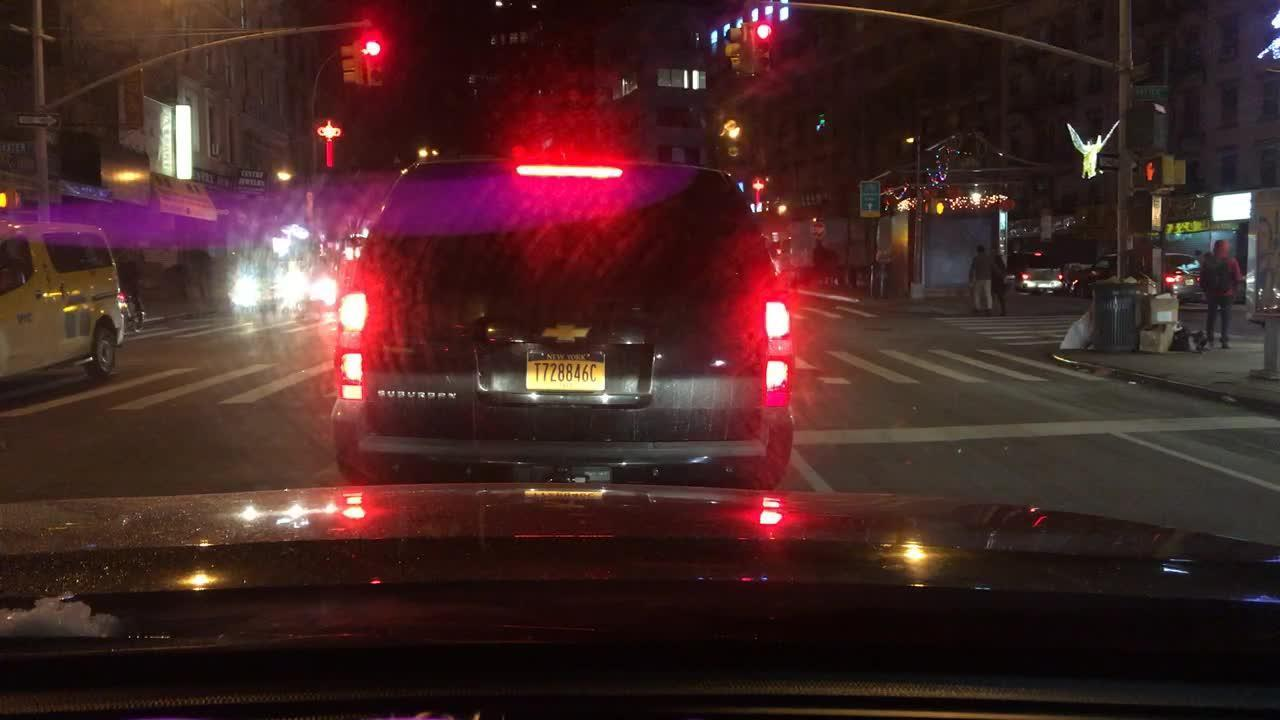chevrolet: (533, 317, 602, 353)
